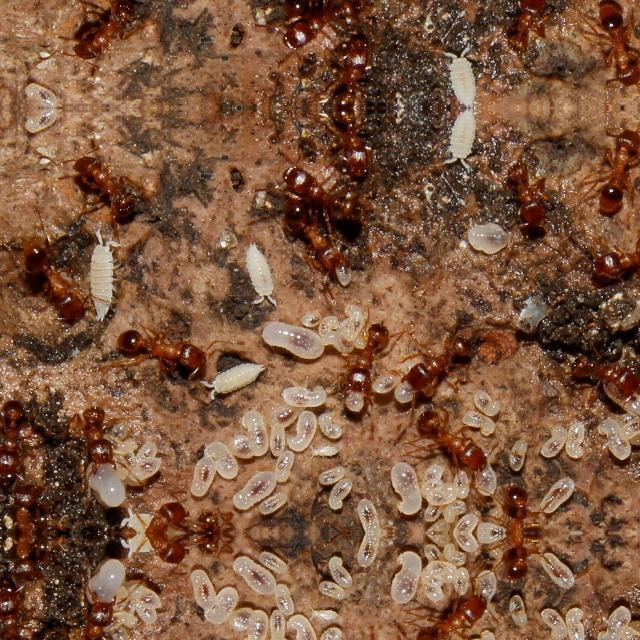Myrmica: (96, 308, 224, 384), (68, 133, 170, 223), (8, 218, 92, 318), (401, 300, 484, 400), (67, 0, 168, 80), (418, 396, 496, 478), (339, 312, 397, 408), (588, 116, 636, 226), (282, 200, 346, 282), (586, 0, 636, 98), (66, 398, 124, 482), (469, 474, 551, 532), (510, 163, 570, 241), (469, 534, 551, 590), (571, 347, 639, 411), (294, 166, 370, 222), (418, 586, 496, 640), (118, 482, 196, 532), (118, 533, 196, 583), (294, 0, 368, 48), (64, 582, 124, 640), (0, 389, 36, 481), (508, 0, 569, 50), (0, 476, 46, 532), (0, 533, 46, 589), (351, 107, 384, 179), (351, 35, 384, 107), (589, 232, 639, 278), (0, 584, 36, 640)
